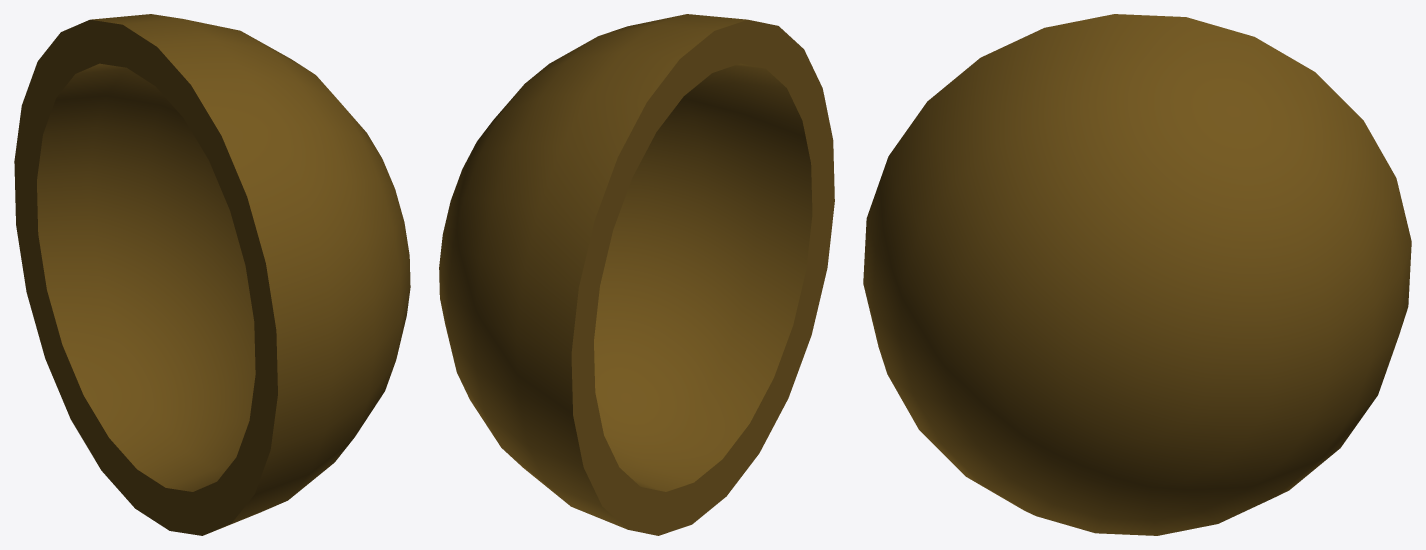
The model's file is original-31.obj.
The picture shows the model from 3 angles, left to right: view 1: azimuth 30°, elevation 25°; view 2: azimuth 150°, elevation 25°; view 3: azimuth 270°, elevation 25°; orthographic projection. The views are drawn at different scales.
Visible parts, largest first — view 1: Group32/mesh53/mesh53-geometry#mesh53-geometry; view 2: Group32/mesh53/mesh53-geometry#mesh53-geometry; view 3: Group32/mesh53/mesh53-geometry#mesh53-geometry.
Part boxes in pixels (box(x1,y1,x2,y2)): Group32/mesh53/mesh53-geometry#mesh53-geometry: box(14, 14, 410, 535); Group32/mesh53/mesh53-geometry#mesh53-geometry: box(439, 14, 834, 535); Group32/mesh53/mesh53-geometry#mesh53-geometry: box(863, 14, 1411, 535).
Bounding box in the file's own units: 0.0157 × 0.0313 × 0.0313.
